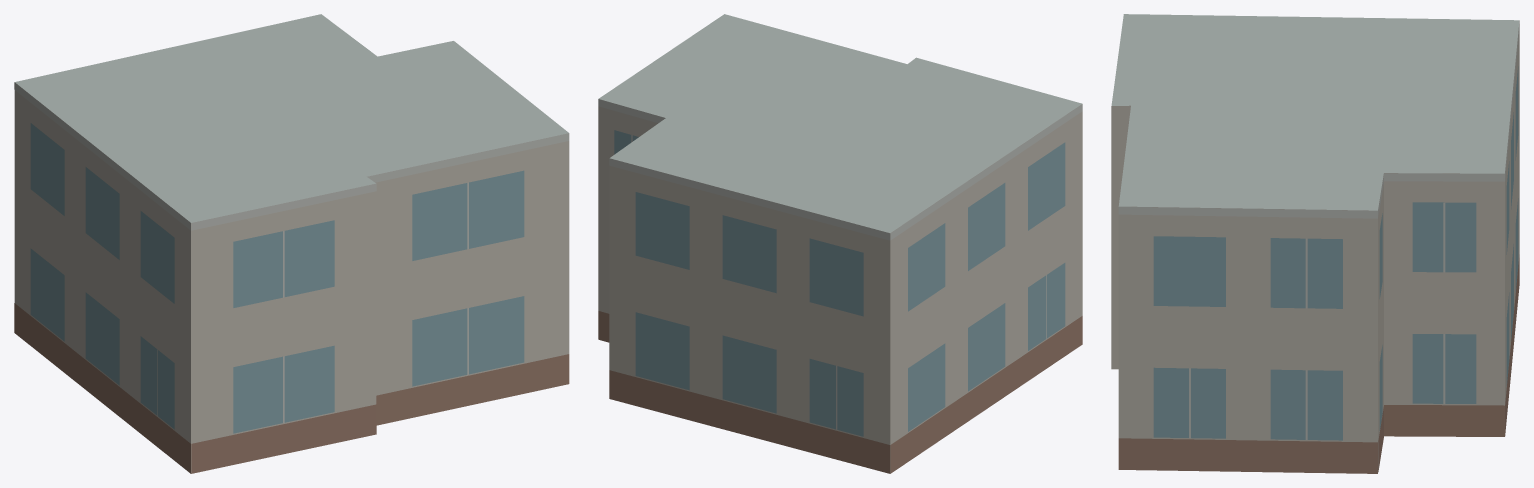
The model's file is survey-upis-32842555.glb.
The picture shows the model from 3 angles, left to right: view 1: azimuth 30°, elevation 25°; view 2: azimuth 150°, elevation 25°; view 3: azimuth 270°, elevation 25°; orthographic projection. The views are drawn at different scales.
Visible parts, largest first — view 1: survey-upis-32842555.tmp; view 2: survey-upis-32842555.tmp; view 3: survey-upis-32842555.tmp.
Part boxes in pixels (x1,y1,x2,y2): survey-upis-32842555.tmp: (14,14,569,473); survey-upis-32842555.tmp: (598,14,1082,473); survey-upis-32842555.tmp: (1111,14,1519,473).
Bounding box in the file's own units: 12.66 × 7.9 × 11.11.
